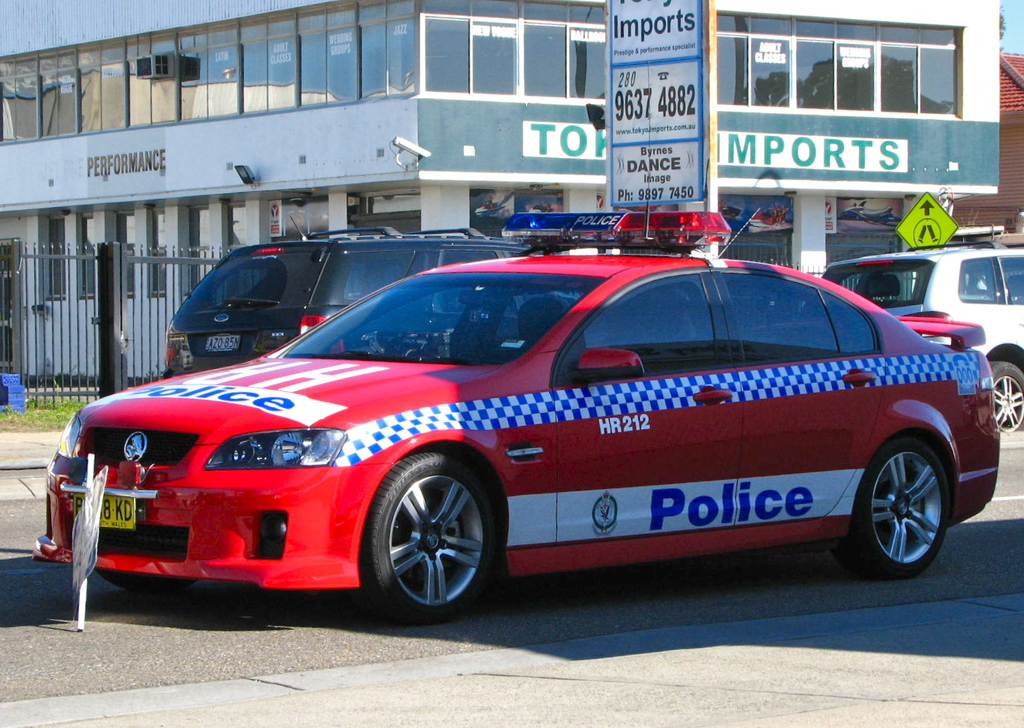Car: (48, 225, 986, 632), (165, 231, 545, 382), (816, 237, 1023, 436)
